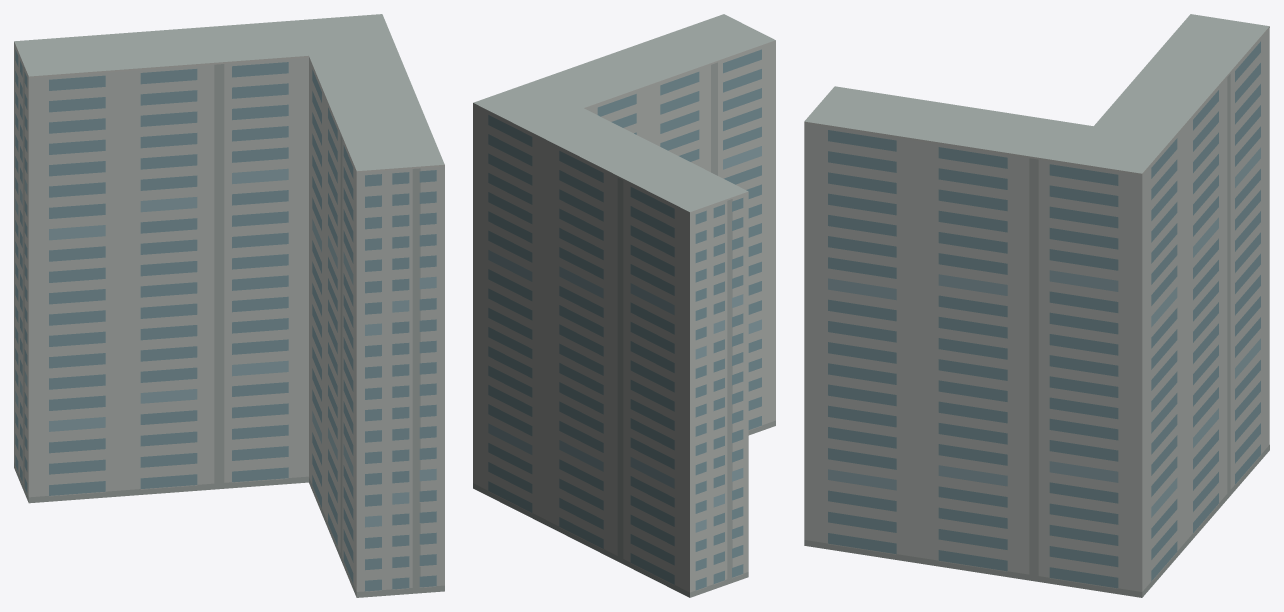
The model's file is residential-515b1db1-71c2-4df4-ba3a-316236b43789.glb.
3 renders of one model, left to right at view 1: azimuth 30°, elevation 25°; view 2: azimuth 150°, elevation 25°; view 3: azimuth 270°, elevation 25°, orthographic. The views are drawn at different scales.
Parts seen in each view (by area): view 1: residential-515b1db1-71c2-4df4-ba3a-316236b43789.tmp; view 2: residential-515b1db1-71c2-4df4-ba3a-316236b43789.tmp; view 3: residential-515b1db1-71c2-4df4-ba3a-316236b43789.tmp.
Part boxes in pixels (x1,y1,x2,y2): residential-515b1db1-71c2-4df4-ba3a-316236b43789.tmp: [14, 14, 444, 597]; residential-515b1db1-71c2-4df4-ba3a-316236b43789.tmp: [473, 14, 775, 597]; residential-515b1db1-71c2-4df4-ba3a-316236b43789.tmp: [804, 14, 1269, 597].
Bounding box in the file's own units: 45.23 × 56 × 55.72.
